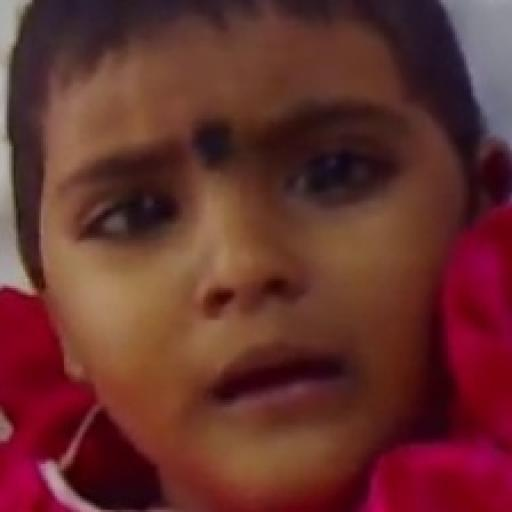Autism: (44, 2, 495, 500)
